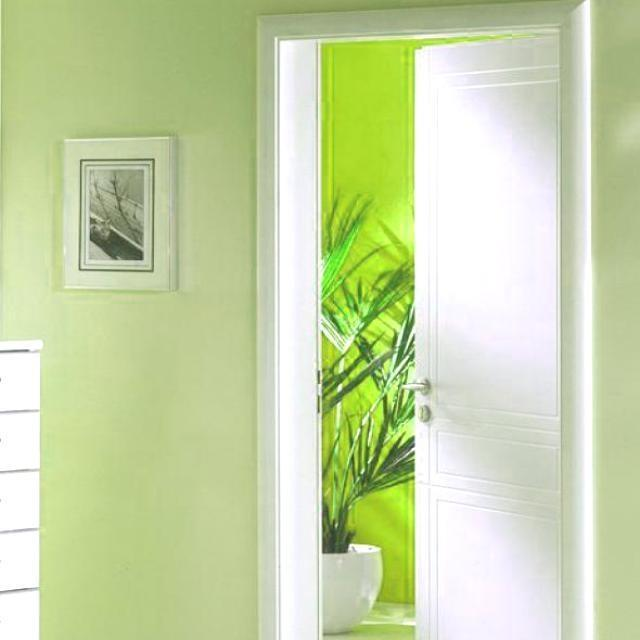door: (409, 30, 562, 639)
